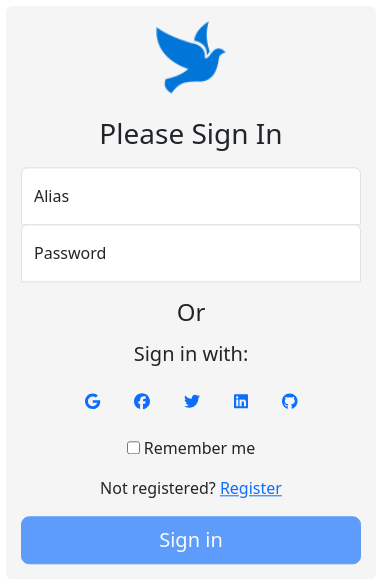
it: Login Component › enables sign-in button when both the alias and password fields have text
Type "h" into the field labelled "Alias" at (191, 196), box 21,167 -> 361,225
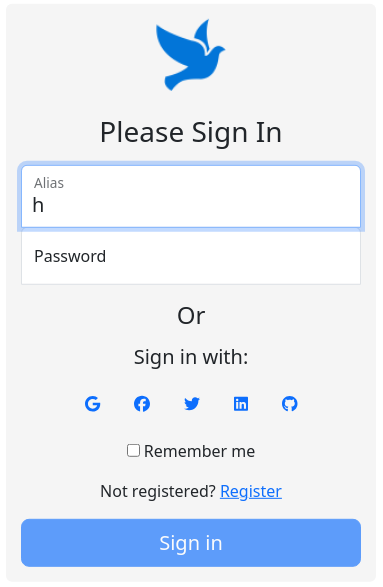
Type "hh" into the password field labelled "Password" at (191, 255), box 21,226 -> 361,284
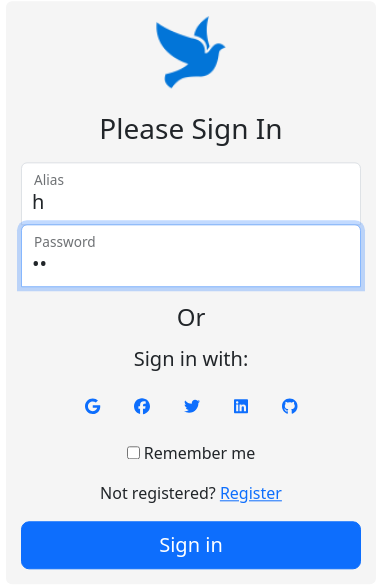
Now the button "Sign in" is enabled, box 21,522 -> 361,570
